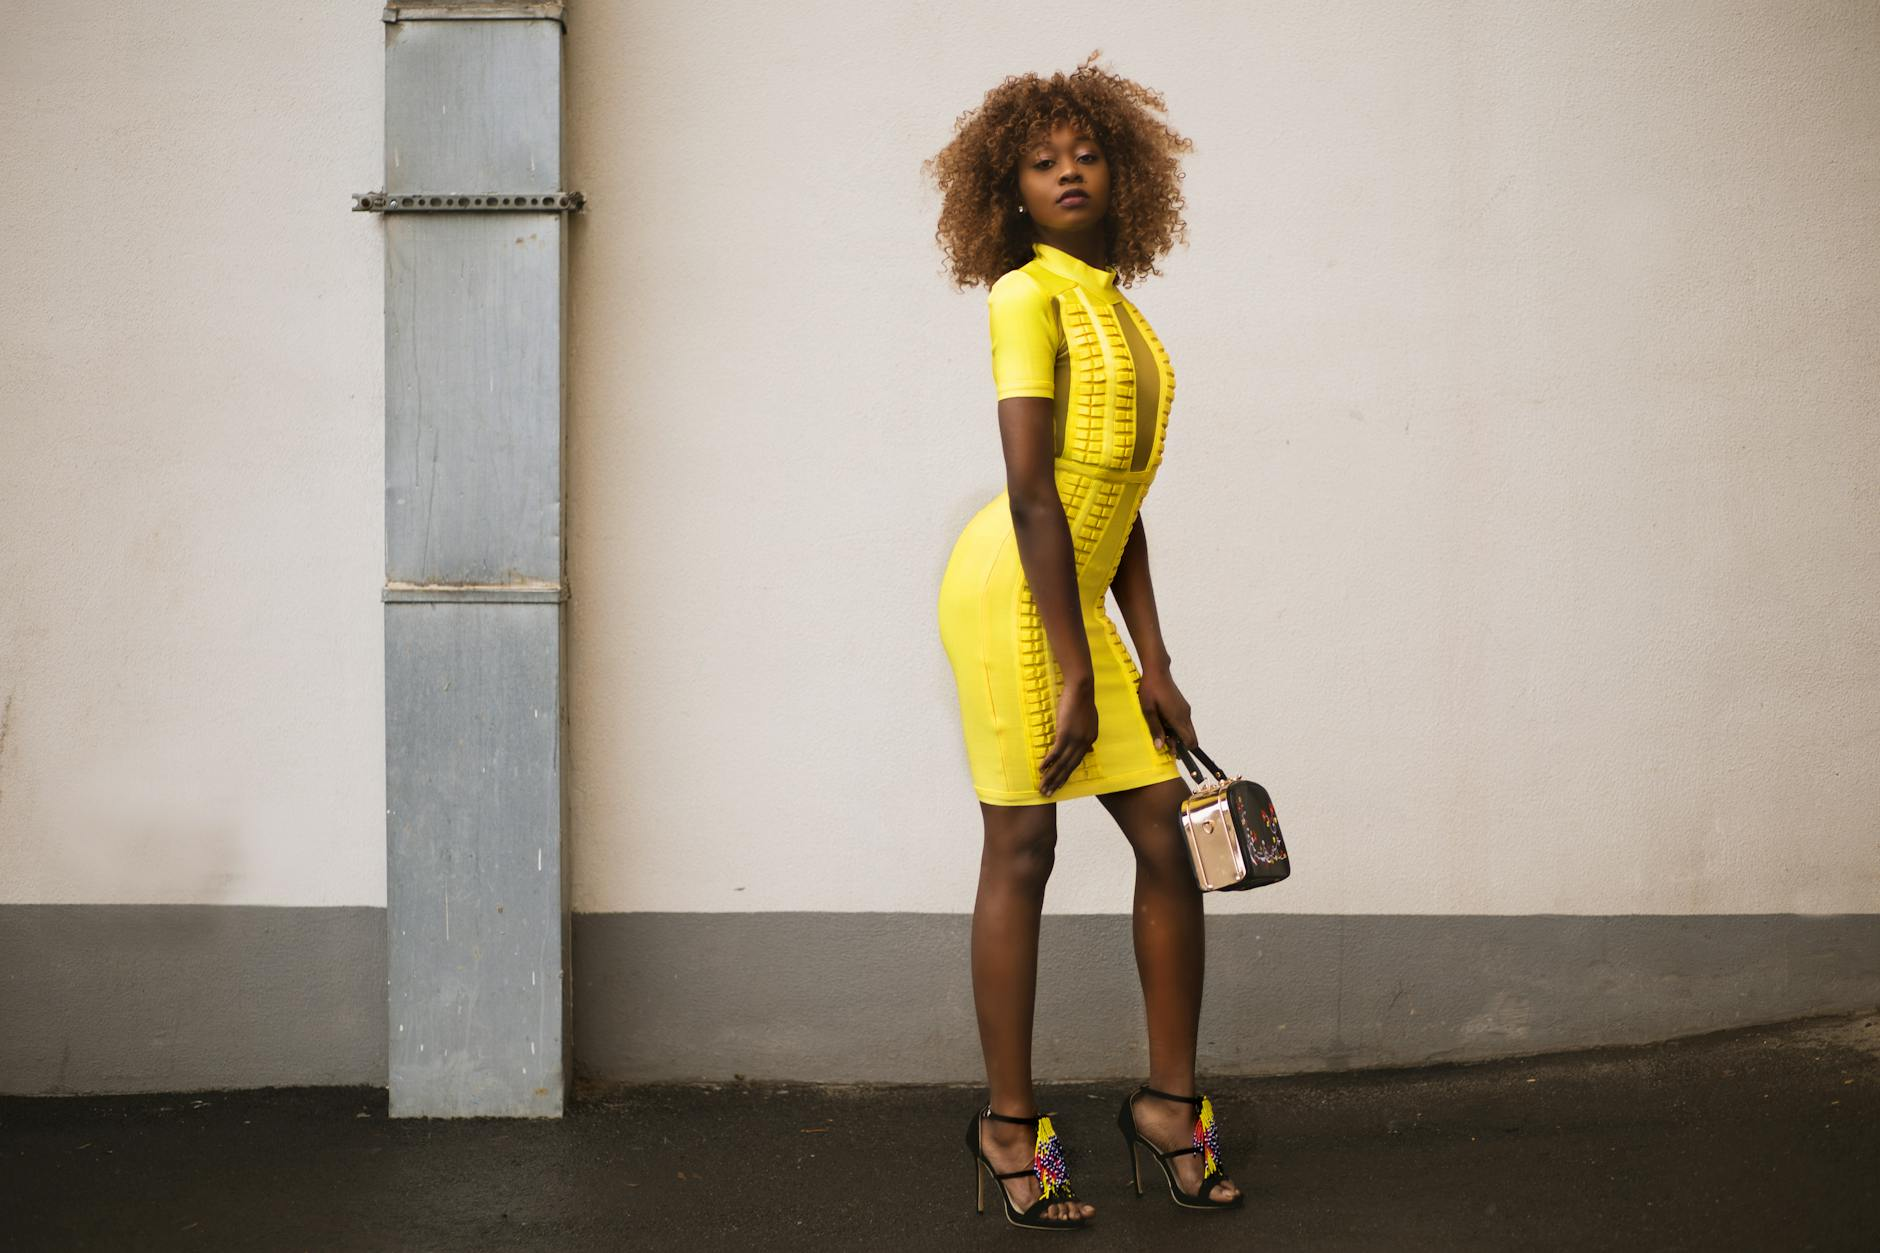opened_foot: (1122, 1070, 1248, 1214), (966, 1098, 1064, 1224)
short_medium_skirt: (939, 604, 1190, 804)
